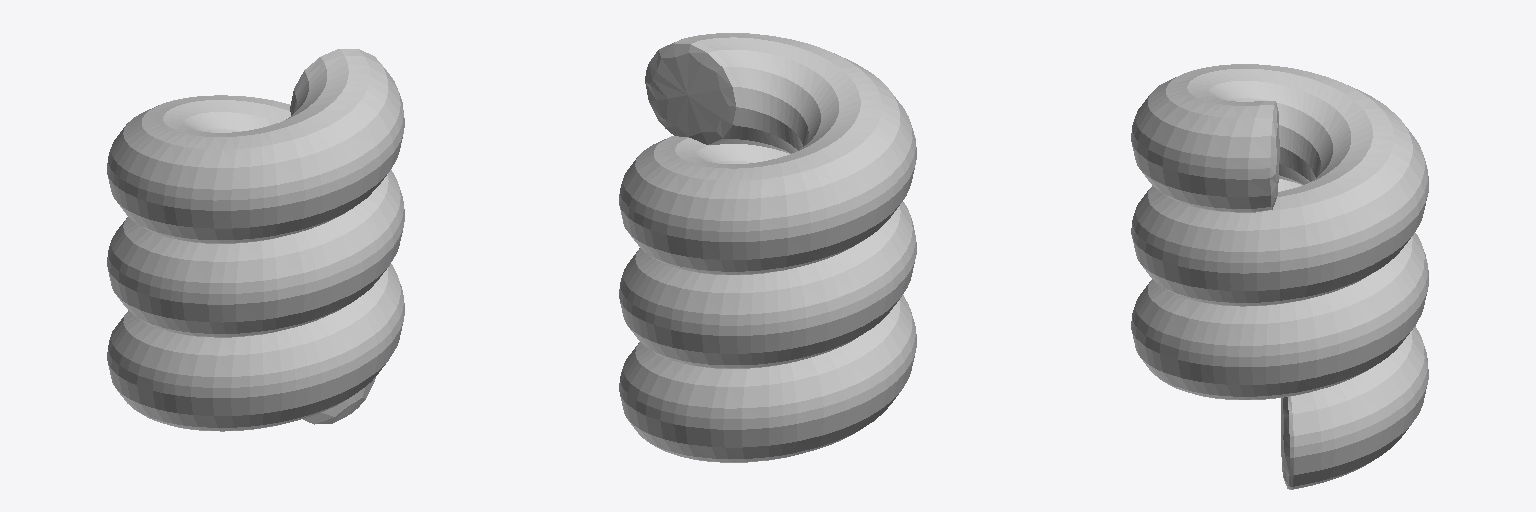
Rendered from helix_85.0.obj.
The picture shows the model from 3 angles: view 1: azimuth 30°, elevation 25°; view 2: azimuth 150°, elevation 25°; view 3: azimuth 270°, elevation 25°; orthographic projection.
Visible parts, largest first — view 1: helix:pHelix1; view 2: helix:pHelix1; view 3: helix:pHelix1.
Boxes of the visible parts, x1,y1,x2,y2 form: helix:pHelix1: [107, 49, 404, 431]; helix:pHelix1: [619, 33, 916, 462]; helix:pHelix1: [1131, 64, 1428, 489].
Size of the model in its own units: 1.92 by 2.7 by 1.92.